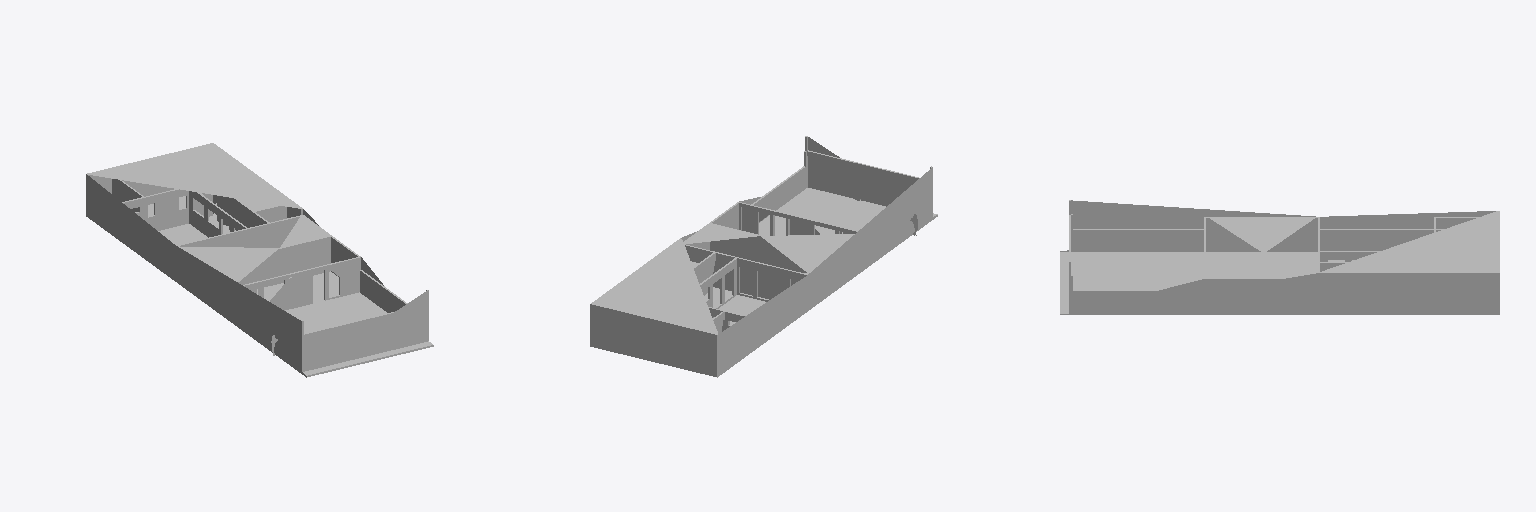
Rendered from fase3.obj.
3 renders of one model, left to right at view 1: azimuth 30°, elevation 25°; view 2: azimuth 150°, elevation 25°; view 3: azimuth 270°, elevation 25°, orthographic.
Parts seen in each view (by area): view 1: Mesh2 Model; view 2: Mesh2 Model; view 3: Mesh2 Model.
Boxes of the visible parts, x1,y1,x2,y2 form: Mesh2 Model: [86, 143, 433, 377]; Mesh2 Model: [590, 136, 937, 377]; Mesh2 Model: [1060, 200, 1499, 314].
Size of the model in its own units: 10.62 by 3.98 by 30.01.